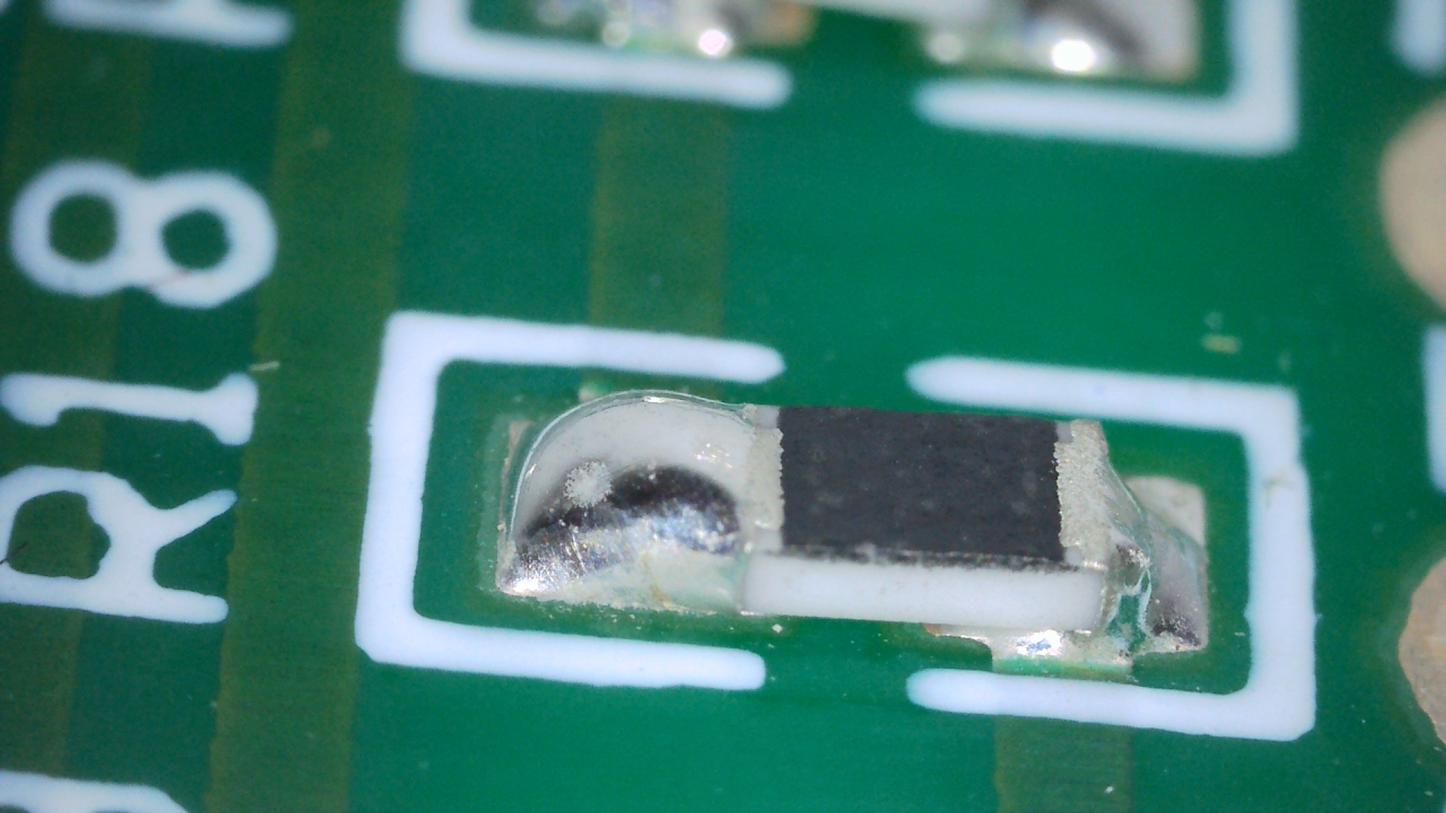NG: (497, 391, 781, 612), (996, 421, 1210, 666)
